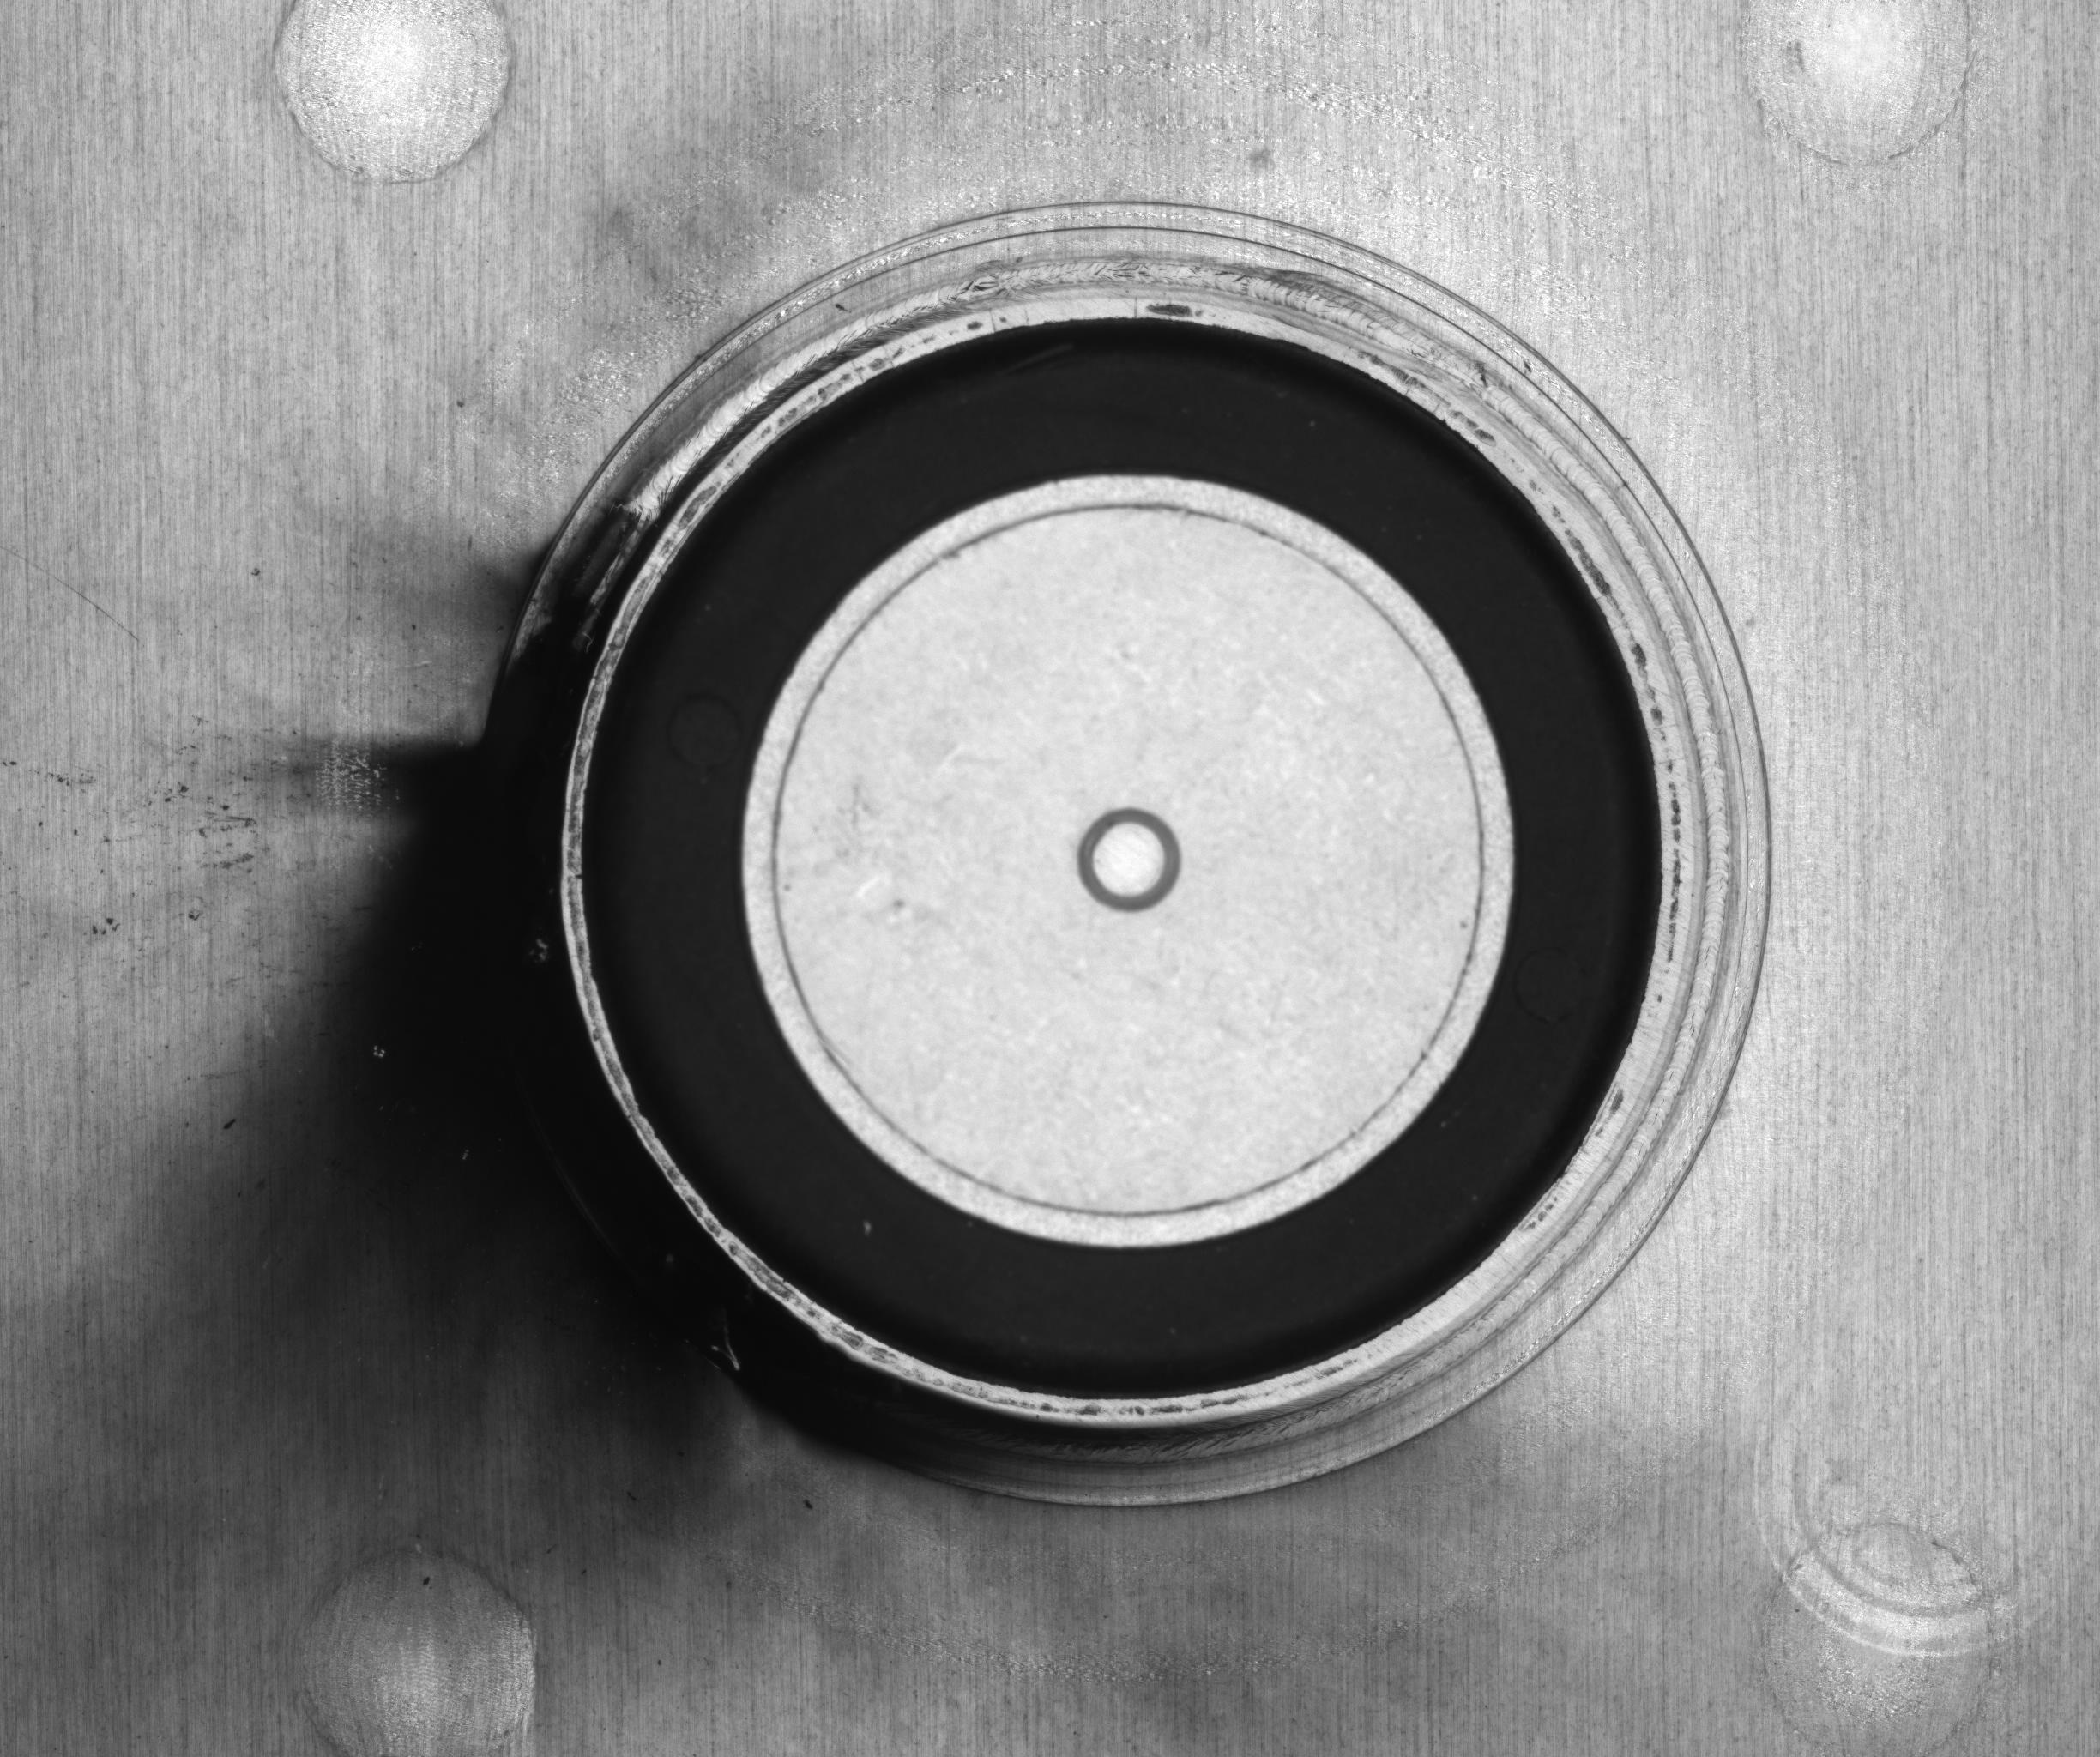burn: (148, 523, 1019, 1612)
